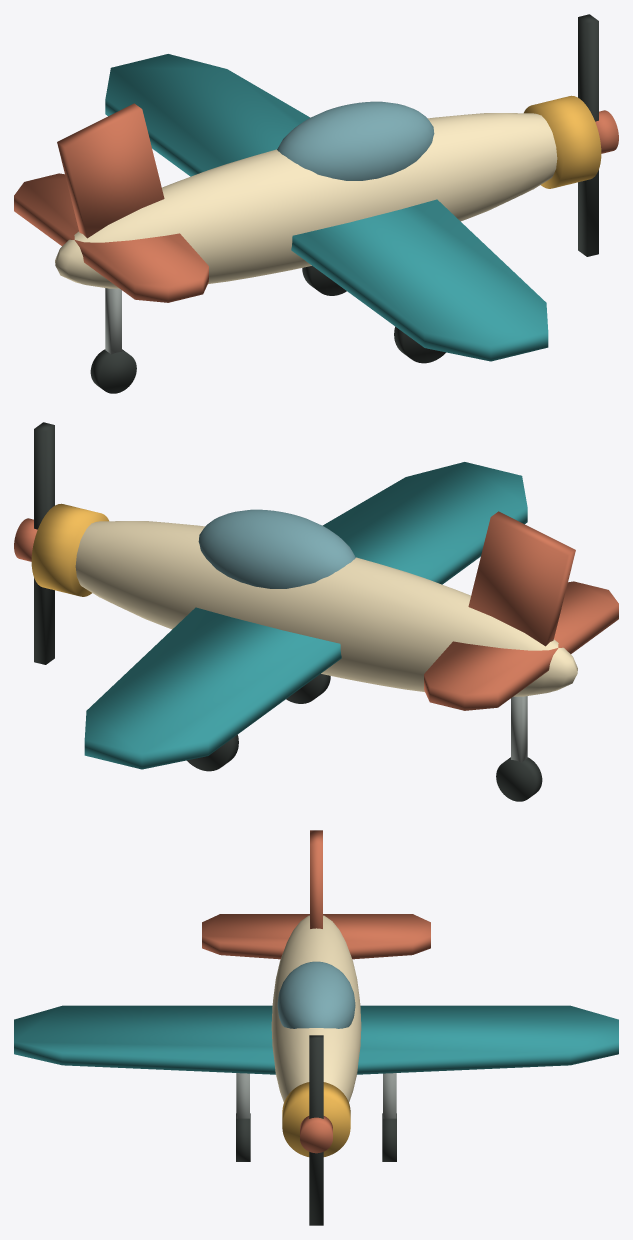
The model's file is fleet-airplane.glb.
3 views of the same model, one above another, from view 1: azimuth 30°, elevation 25°; view 2: azimuth 150°, elevation 25°; view 3: azimuth 270°, elevation 25° (orthographic). The views are drawn at different scales.
Visible parts, largest first — view 1: Airplane_Main_Wing, Airplane_Fuselage, Airplane_Tailplane, Airplane_Tail_Fin, Airplane_Cockpit, Airplane_Nose, Airplane_Propeller, Airplane_Tail_Gear, Airplane_Tail_Strut, Airplane_Gear, Airplane_Spinner, Airplane_Gear.001; view 2: Airplane_Main_Wing, Airplane_Fuselage, Airplane_Tailplane, Airplane_Tail_Fin, Airplane_Cockpit, Airplane_Nose, Airplane_Propeller, Airplane_Tail_Gear, Airplane_Tail_Strut, Airplane_Gear.001, Airplane_Spinner, Airplane_Gear; view 3: Airplane_Main_Wing, Airplane_Fuselage, Airplane_Tailplane, Airplane_Cockpit, Airplane_Nose, Airplane_Propeller, Airplane_Tail_Fin, Airplane_Spinner, Airplane_Gear, Airplane_Gear.001, Airplane_Landing_Strut, Airplane_Landing_Strut.001.
Boxes of the visible parts, left/top/right/bottom form: Airplane_Main_Wing: left=105, top=54, right=548, bottom=361; Airplane_Fuselage: left=55, top=113, right=557, bottom=288; Airplane_Tailplane: left=14, top=173, right=208, bottom=302; Airplane_Tail_Fin: left=57, top=103, right=164, bottom=238; Airplane_Cockpit: left=277, top=101, right=434, bottom=180; Airplane_Nose: left=524, top=95, right=601, bottom=188; Airplane_Propeller: left=578, top=14, right=598, bottom=256; Airplane_Tail_Gear: left=90, top=349, right=136, bottom=393; Airplane_Tail_Strut: left=105, top=288, right=121, bottom=354; Airplane_Gear: left=394, top=326, right=445, bottom=363; Airplane_Spinner: left=595, top=110, right=618, bottom=153; Airplane_Gear.001: left=302, top=266, right=346, bottom=295; Airplane_Main_Wing: left=84, top=462, right=527, bottom=769; Airplane_Fuselage: left=75, top=521, right=577, bottom=696; Airplane_Tailplane: left=424, top=581, right=618, bottom=710; Airplane_Tail_Fin: left=468, top=511, right=575, bottom=646; Airplane_Cockpit: left=198, top=509, right=355, bottom=588; Airplane_Nose: left=31, top=503, right=108, bottom=596; Airplane_Propeller: left=34, top=422, right=54, bottom=664; Airplane_Tail_Gear: left=496, top=757, right=542, bottom=801; Airplane_Tail_Strut: left=511, top=696, right=527, bottom=762; Airplane_Gear.001: left=187, top=734, right=238, bottom=771; Airplane_Spinner: left=14, top=518, right=37, bottom=561; Airplane_Gear: left=286, top=674, right=330, bottom=703; Airplane_Main_Wing: left=14, top=1005, right=618, bottom=1074; Airplane_Fuselage: left=271, top=915, right=361, bottom=1101; Airplane_Tailplane: left=202, top=914, right=430, bottom=959; Airplane_Cockpit: left=277, top=961, right=355, bottom=1028; Airplane_Nose: left=282, top=1082, right=350, bottom=1156; Airplane_Propeller: left=309, top=1035, right=323, bottom=1225; Airplane_Tail_Fin: left=310, top=830, right=322, bottom=928; Airplane_Spinner: left=300, top=1116, right=332, bottom=1153; Airplane_Gear: left=236, top=1113, right=250, bottom=1161; Airplane_Gear.001: left=382, top=1113, right=396, bottom=1161; Airplane_Landing_Strut: left=236, top=1073, right=249, bottom=1118; Airplane_Landing_Strut.001: left=383, top=1073, right=396, bottom=1118.
Bounding box in the file's own units: 5.21 × 2.5 × 6.2.
